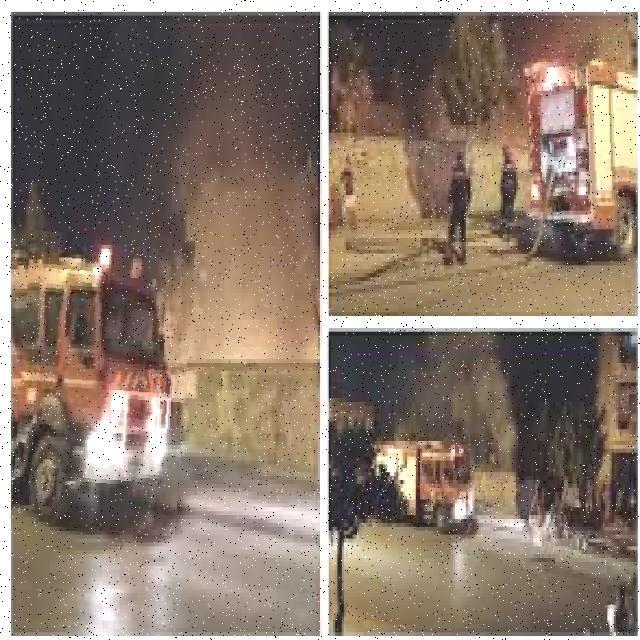pompier: (15, 233, 190, 534), (518, 61, 631, 254), (374, 422, 483, 533)
